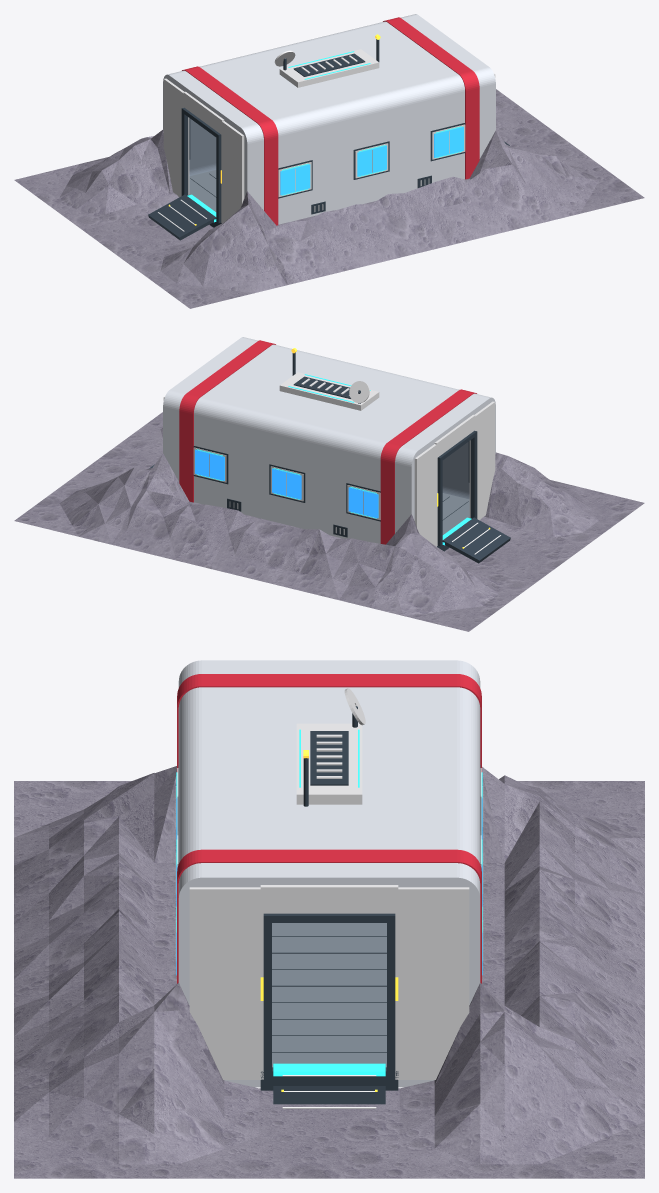
File: habitat_semienterrado_original.glb
3 renders of one model, top to bottom at view 1: azimuth 30°, elevation 25°; view 2: azimuth 150°, elevation 25°; view 3: azimuth 270°, elevation 25°, orthographic. The views are drawn at different scales.
Visible parts, largest first — view 1: Lunar rock berms (semi-buried terrain), Outer pressure hull, Red circumferential band 8.9, Red circumferential band -8.9, End -1 left bulkhead, End -1 right bulkhead, Entry ramp -1, Roof equipment spine, Interior pressure lining, Continuous walkable interior deck, Window 1 1 smart glass, Window 1 3 smart glass (+5 smaller); view 2: Lunar rock berms (semi-buried terrain), Outer pressure hull, Red circumferential band 8.9, Red circumferential band -8.9, End -1 left bulkhead, End -1 right bulkhead, Entry ramp -1, Interior pressure lining, Roof equipment spine, Continuous walkable interior deck, Window -1 1 smart glass, Window -1 3 smart glass (+5 smaller); view 3: Lunar rock berms (semi-buried terrain), Outer pressure hull, Continuous walkable interior deck, End 1 left bulkhead, End 1 right bulkhead, Red circumferential band 8.9, Red circumferential band -8.9, End 1 upper bulkhead, Roof equipment spine, Entry ramp 1, Roof spine dark inset, End 1 lower bulkhead (+4 smaller).
Part boxes in pixels (x1=…): Lunar rock berms (semi-buried terrain): x1=14, y1=89, x2=644, y2=308; Outer pressure hull: x1=163, y1=14, x2=495, y2=224; Red circumferential band 8.9: x1=383, y1=17, x2=479, y2=179; Red circumferential band -8.9: x1=182, y1=66, x2=278, y2=225; End -1 left bulkhead: x1=163, y1=78, x2=189, y2=196; End -1 right bulkhead: x1=221, y1=121, x2=244, y2=222; Entry ramp -1: x1=148, y1=194, x2=216, y2=240; Roof equipment spine: x1=279, y1=49, x2=379, y2=87; Interior pressure lining: x1=189, y1=119, x2=216, y2=176; Continuous walkable interior deck: x1=189, y1=170, x2=216, y2=211; Window 1 1 smart glass: x1=280, y1=164, x2=310, y2=195; Window 1 3 smart glass: x1=434, y1=126, x2=463, y2=157; Lunar rock berms (semi-buried terrain): x1=14, y1=412, x2=644, y2=631; Outer pressure hull: x1=163, y1=337, x2=495, y2=543; Red circumferential band 8.9: x1=179, y1=340, x2=275, y2=502; Red circumferential band -8.9: x1=380, y1=389, x2=476, y2=544; End -1 left bulkhead: x1=414, y1=444, x2=437, y2=546; End -1 right bulkhead: x1=469, y1=401, x2=495, y2=519; Entry ramp -1: x1=442, y1=517, x2=510, y2=563; Interior pressure lining: x1=442, y1=442, x2=469, y2=499; Roof equipment spine: x1=279, y1=372, x2=379, y2=410; Continuous walkable interior deck: x1=442, y1=493, x2=469, y2=534; Window -1 1 smart glass: x1=348, y1=487, x2=378, y2=518; Window -1 3 smart glass: x1=195, y1=449, x2=224, y2=480; Lunar rock berms (semi-buried terrain): x1=14, y1=766, x2=644, y2=1178; Outer pressure hull: x1=178, y1=660, x2=480, y2=1087; Continuous walkable interior deck: x1=272, y1=923, x2=386, y2=1067; End 1 left bulkhead: x1=395, y1=887, x2=469, y2=1079; End 1 right bulkhead: x1=189, y1=887, x2=263, y2=1079; Red circumferential band 8.9: x1=177, y1=849, x2=481, y2=983; Red circumferential band -8.9: x1=177, y1=674, x2=481, y2=771; End 1 upper bulkhead: x1=260, y1=885, x2=398, y2=913; Roof equipment spine: x1=296, y1=723, x2=362, y2=804; Entry ramp 1: x1=273, y1=1086, x2=385, y2=1104; Roof spine dark inset: x1=310, y1=731, x2=348, y2=785; End 1 lower bulkhead: x1=260, y1=1067, x2=398, y2=1090.
Bounding box in the file's own units: 40.25 × 12.56 × 27.
10 materials, 1 textured.
